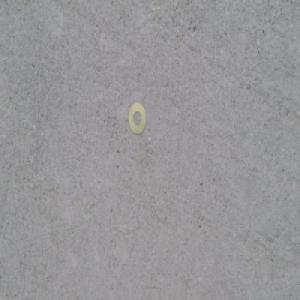Washer: (127, 103, 146, 138)
